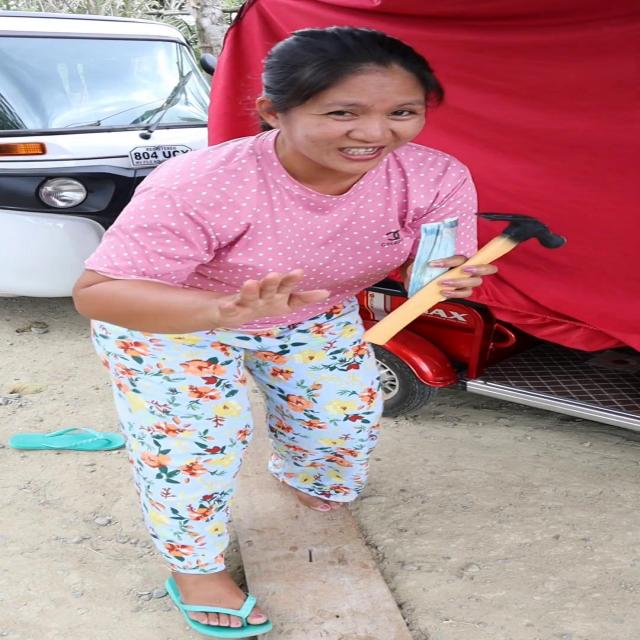hammer: (360, 212, 566, 346)
